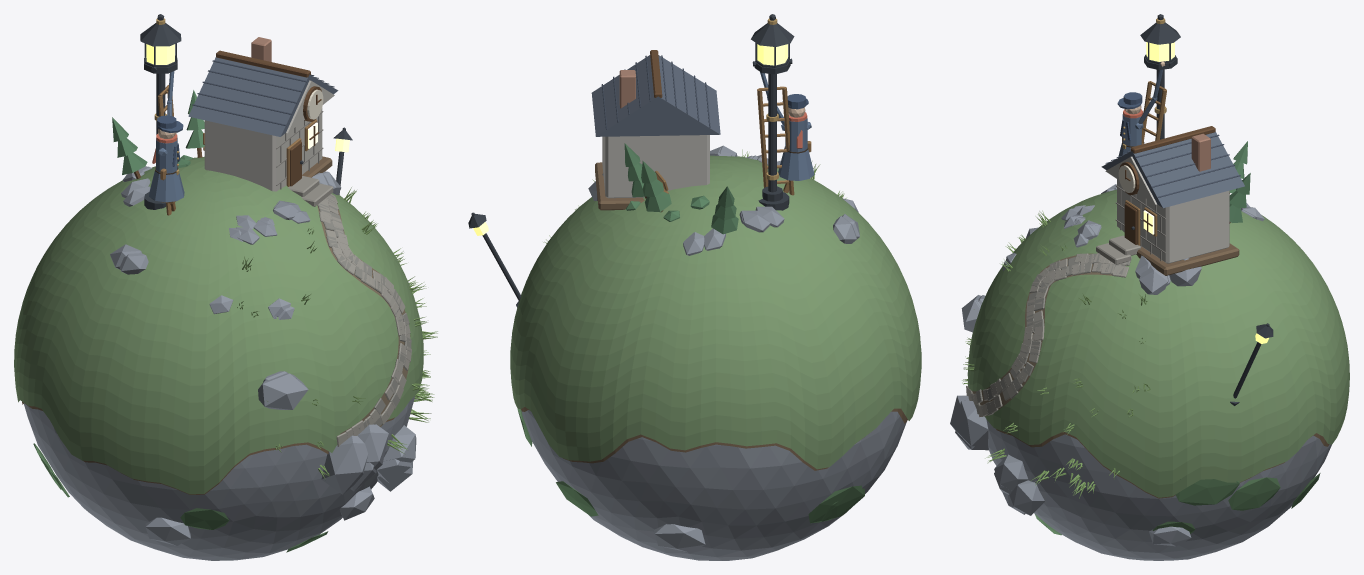
Rendered from lamplighter.glb.
3 renders of one model, left to right at view 1: azimuth 30°, elevation 25°; view 2: azimuth 150°, elevation 25°; view 3: azimuth 270°, elevation 25°, orthographic. The views are drawn at different scales.
Parts seen in each view (by area): view 1: WEB_Terrain, WEB_House, WEB_Props, WEB_Lamp, WEB_Character; view 2: WEB_Terrain, WEB_House, WEB_Props, WEB_Lamp, WEB_Character, WEB_RemoteLamp; view 3: WEB_Terrain, WEB_House, WEB_Props, WEB_Lamp, WEB_Character, WEB_RemoteLamp.
Boxes of the visible parts, bbox=[...] form: WEB_Terrain: bbox=[14, 156, 423, 560]; WEB_House: bbox=[188, 37, 338, 206]; WEB_Props: bbox=[110, 90, 437, 494]; WEB_Lamp: bbox=[140, 14, 181, 215]; WEB_Character: bbox=[149, 71, 184, 202]; WEB_Terrain: bbox=[510, 155, 921, 560]; WEB_House: bbox=[591, 50, 720, 210]; WEB_Props: bbox=[543, 143, 859, 255]; WEB_Lamp: bbox=[751, 14, 794, 210]; WEB_Character: bbox=[760, 72, 814, 180]; WEB_RemoteLamp: bbox=[468, 212, 520, 307]; WEB_Terrain: bbox=[966, 189, 1349, 560]; WEB_House: bbox=[1096, 126, 1244, 275]; WEB_Props: bbox=[950, 141, 1264, 515]; WEB_Lamp: bbox=[1140, 14, 1180, 144]; WEB_Character: bbox=[1117, 61, 1164, 157]; WEB_RemoteLamp: bbox=[1230, 323, 1273, 405].
Bounding box in the file's own units: 4.25 × 5.98 × 4.3.
